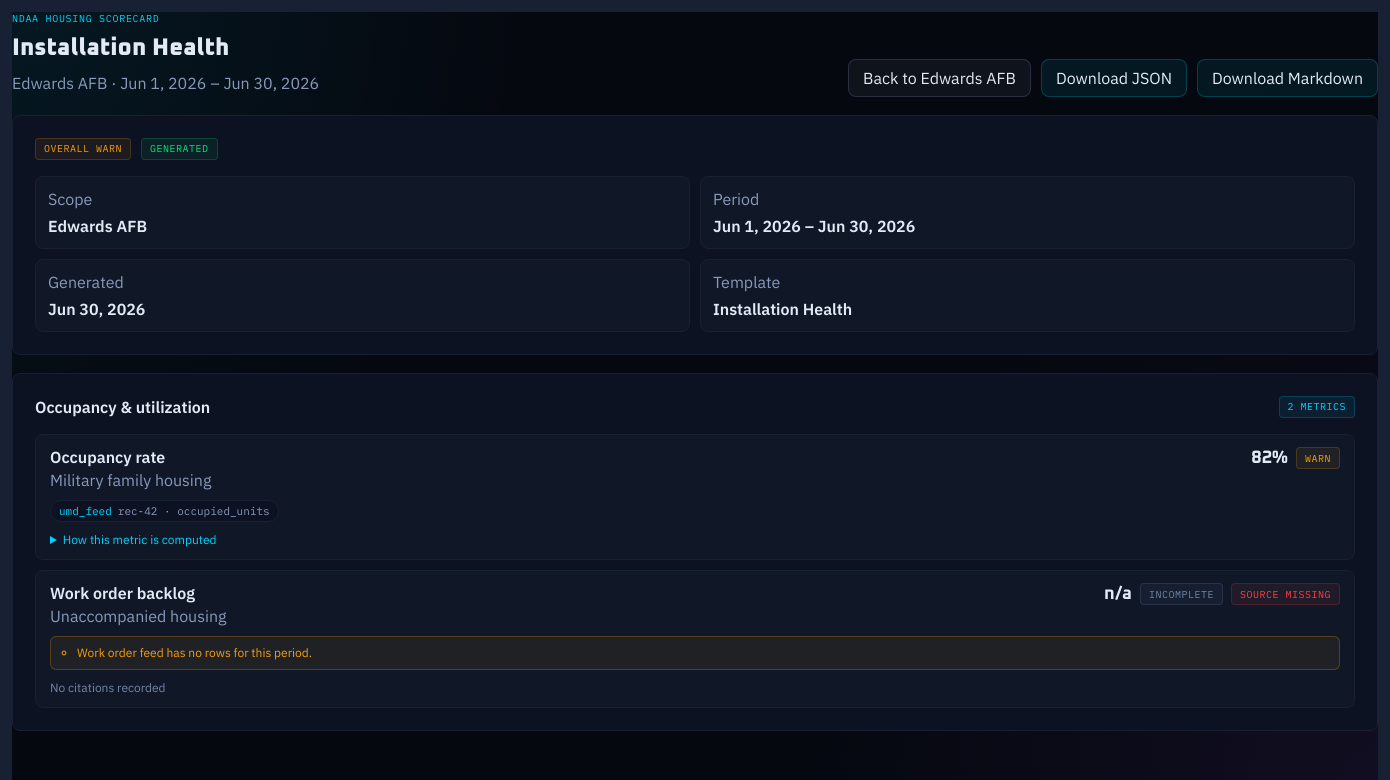
Test: ScorecardRunPage › renders the run header, sections, metric values, citations, and description affordance
Check: the heading "Installation Health" is shown, box [12,36,230,60]
Check: the text "Edwards AFB" is shown, box [48,216,147,236]
Click the heading "How this metric is computed" at [133, 539], box [50,532,216,547]
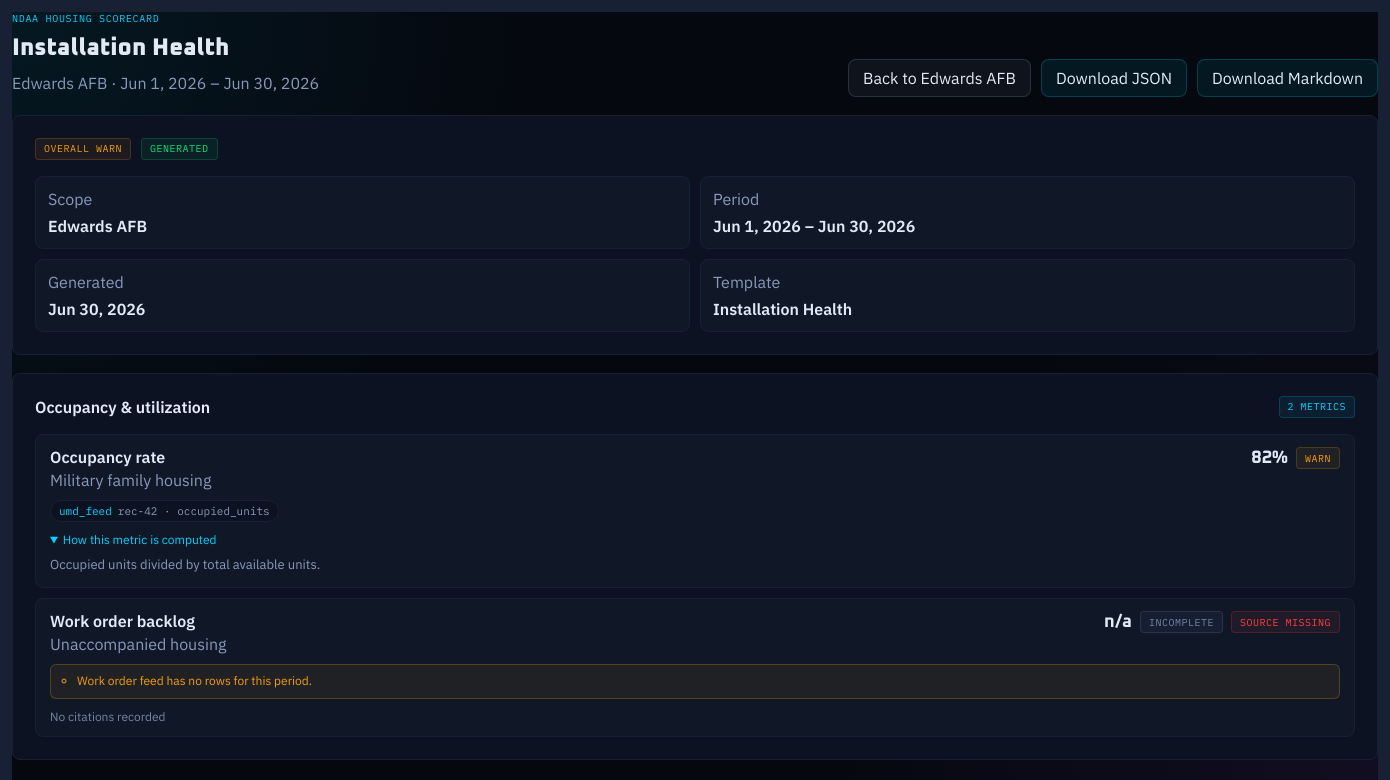
Check: the text "Occupied units divided by total available units." is shown, box [50,556,320,573]
